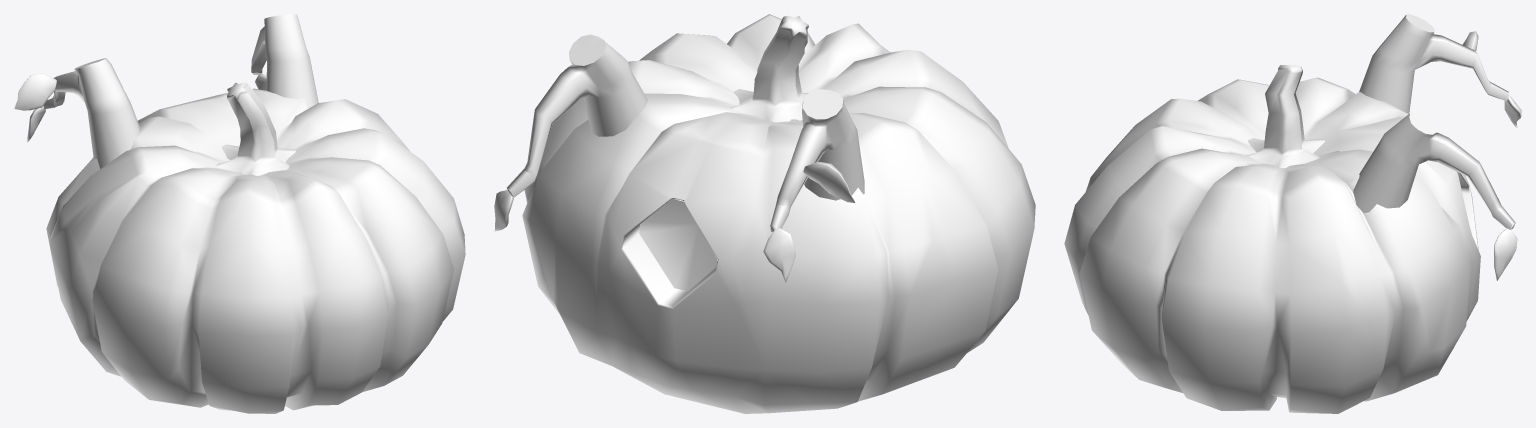
The model's file is Prop_MischiefPumpkin.glb.
3 renders of one model, left to right at view 1: azimuth 30°, elevation 25°; view 2: azimuth 150°, elevation 25°; view 3: azimuth 270°, elevation 25°, orthographic. The views are drawn at different scales.
Parts seen in each view (by area): view 1: Prop_MischiefPumpkin; view 2: Prop_MischiefPumpkin; view 3: Prop_MischiefPumpkin.
Boxes of the visible parts, left/top/right/bottom form: Prop_MischiefPumpkin: left=14, top=14, right=465, bottom=413; Prop_MischiefPumpkin: left=494, top=14, right=1035, bottom=413; Prop_MischiefPumpkin: left=1064, top=14, right=1521, bottom=413.
Size of the model in its own units: 7.18 by 5.52 by 7.49.
1 material, 1 textured.
